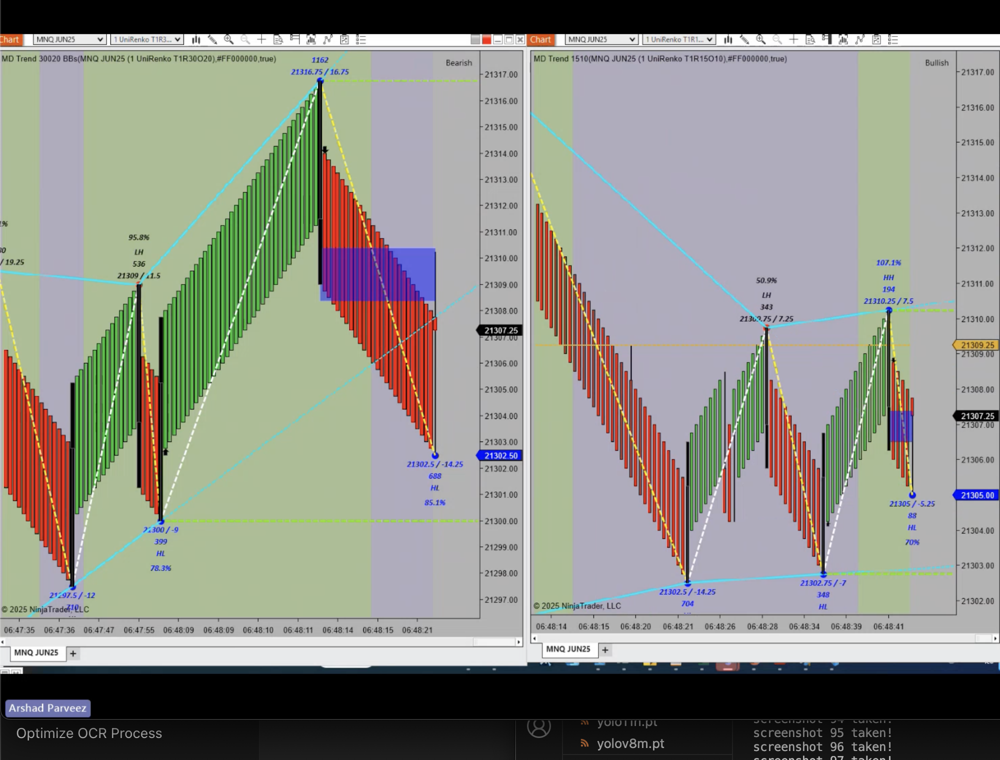HL: (422, 477, 448, 500), (149, 544, 173, 562), (814, 597, 837, 615), (906, 517, 922, 537)
LH: (757, 286, 781, 304), (128, 244, 154, 260)
